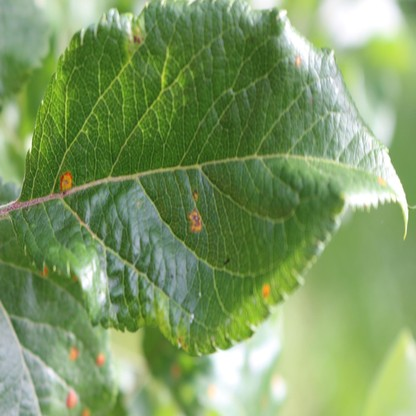rust: (61, 169, 74, 190), (189, 210, 202, 229), (66, 389, 78, 407), (69, 344, 79, 360), (261, 282, 269, 298), (96, 352, 103, 364), (377, 175, 385, 185), (82, 406, 89, 416), (192, 188, 198, 199), (295, 54, 301, 65), (43, 266, 48, 276), (71, 275, 77, 281)
scab: (136, 298, 188, 348), (125, 23, 145, 56)
